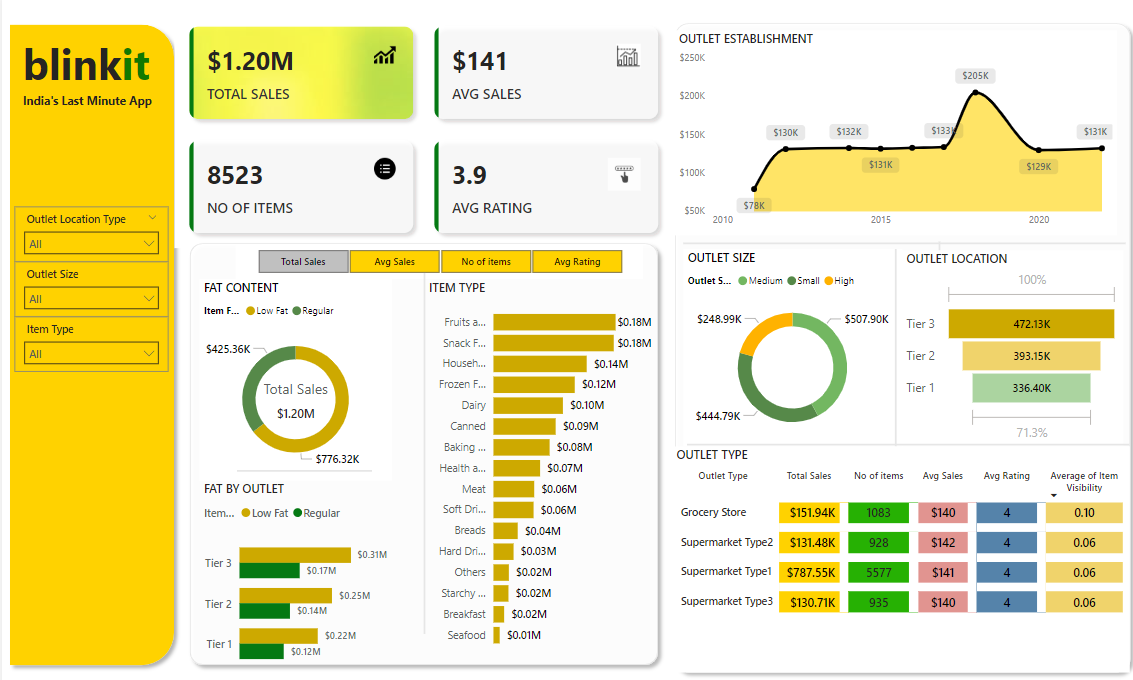

This screenshot's page, from the dashboard's own definition file:
{"tool":"powerbi","page":{"name":"Page 1","canvas":[1400,800],"ordinal":0},"visuals":[{"type":"shape","box":[0,25.5,205.6,750.4],"z":0},{"type":"textbox","box":[18,42,175.6,82.5],"z":1000},{"type":"textbox","box":[18,106.6,175.6,33],"z":2000},{"type":"cardVisual","fields":{"Data":["BlinkIT-Grocery-Data.Total Sales","BlinkIT-Grocery-Data.Avg Sales","BlinkIT-Grocery-Data.No of items","BlinkIT-Grocery-Data.Avg Rating"]},"box":[197.1,20,571.4,270],"z":3000},{"type":"shape","box":[205.7,275.7,552.9,500],"z":4000},{"type":"donutChart","title":"FAT CONTENT","fields":{"Y":["BlinkIT-Grocery-Data.Total Sales"],"Category":["BlinkIT-Grocery-Data.Item Fat Content"]},"box":[225.7,325.7,220,230],"z":5000},{"type":"slicer","fields":{"Values":["Metrics.Metrics"]},"box":[267.1,285.7,465.7,40],"z":6000},{"type":"cardVisual","fields":{"Data":["BlinkIT-Grocery-Data.Total Sales"]},"box":[277.1,412.9,117.1,102.9],"z":7000},{"type":"clusteredBarChart","title":"FAT BY OUTLET","fields":{"Y":["BlinkIT-Grocery-Data.Total Sales"],"Category":["BlinkIT-Grocery-Data.Outlet Location Type"],"Series":["BlinkIT-Grocery-Data.Item Fat Content"]},"box":[225.7,555.7,220,230],"z":8000},{"type":"shape","box":[268.6,515.7,154.3,58.6],"z":9000},{"type":"shape","box":[405.7,318.6,154.3,412.9],"z":10000},{"type":"barChart","title":"ITEM TYPE","fields":{"Y":["BlinkIT-Grocery-Data.Total Sales"],"Category":["BlinkIT-Grocery-Data.Item Type"]},"box":[482.9,325.7,264.3,431.4],"z":11000},{"type":"shape","box":[760,24.3,538.6,760],"z":12000},{"type":"lineChart","title":"OUTLET ESTABLISHMENT","fields":{"Y":["BlinkIT-Grocery-Data.Total Sales"],"Category":["BlinkIT-Grocery-Data.Outlet Establishment Year"]},"box":[768.6,41.4,505.7,234.3],"z":12001},{"type":"shape","box":[778.6,255.7,505.7,58.6],"z":12002},{"type":"donutChart","title":"OUTLET SIZE","fields":{"Y":["BlinkIT-Grocery-Data.Total Sales"],"Category":["BlinkIT-Grocery-Data.Outlet Size"]},"box":[778.6,291.4,250,225.7],"z":12003},{"type":"shape","box":[994.3,282.9,154.3,225.7],"z":12004},{"type":"funnel","title":"OUTLET LOCATION","fields":{"Y":["Sum(BlinkIT-Grocery-Data.Sales)"],"Category":["BlinkIT-Grocery-Data.Outlet Location Type"]},"box":[1028.6,292.9,252.9,224.3],"z":12005},{"type":"shape","box":[944.3,291.4,154.3,225.7],"z":12006},{"type":"shape","box":[782.9,485.7,505.7,58.6],"z":12007},{"type":"pivotTable","title":"OUTLET TYPE","fields":{"Rows":["BlinkIT-Grocery-Data.Outlet Type"],"Values":["BlinkIT-Grocery-Data.Total Sales","BlinkIT-Grocery-Data.No of items","BlinkIT-Grocery-Data.Avg Sales","BlinkIT-Grocery-Data.Avg Rating","Avg(BlinkIT-Grocery-Data.Item Visibility)"]},"box":[765.7,517.1,522.9,258.6],"z":12008},{"type":"slicer","fields":{"Values":["BlinkIT-Grocery-Data.Outlet Location Type"]},"box":[14.3,242.9,175.7,62.9],"z":12009},{"type":"slicer","fields":{"Values":["BlinkIT-Grocery-Data.Outlet Size"]},"box":[14.3,305.7,175.7,62.9],"z":12010},{"type":"slicer","fields":{"Values":["BlinkIT-Grocery-Data.Item Type"]},"box":[14.3,368.6,175.7,62.9],"z":12011}]}

Visuals, with their boxes on the page's 1400x800 design canvas (x1, y1, x2, y2). These are canvas units, not pixel positions in the 1133x680 screenshot, which may show the page scaled, cropped or inside an application window:
shape: (left=0, top=26, right=206, bottom=776)
textbox: (left=18, top=42, right=194, bottom=124)
textbox: (left=18, top=107, right=194, bottom=140)
cardVisual - BlinkIT-Grocery-Data.Total Sales x BlinkIT-Grocery-Data.Avg Sales: (left=197, top=20, right=768, bottom=290)
shape: (left=206, top=276, right=759, bottom=776)
"FAT CONTENT" donutChart: (left=226, top=326, right=446, bottom=556)
slicer - Metrics.Metrics: (left=267, top=286, right=733, bottom=326)
cardVisual - BlinkIT-Grocery-Data.Total Sales: (left=277, top=413, right=394, bottom=516)
"FAT BY OUTLET" clusteredBarChart: (left=226, top=556, right=446, bottom=786)
shape: (left=269, top=516, right=423, bottom=574)
shape: (left=406, top=319, right=560, bottom=732)
"ITEM TYPE" barChart: (left=483, top=326, right=747, bottom=757)
shape: (left=760, top=24, right=1299, bottom=784)
"OUTLET ESTABLISHMENT" lineChart: (left=769, top=41, right=1274, bottom=276)
shape: (left=779, top=256, right=1284, bottom=314)
"OUTLET SIZE" donutChart: (left=779, top=291, right=1029, bottom=517)
shape: (left=994, top=283, right=1149, bottom=509)
"OUTLET LOCATION" funnel: (left=1029, top=293, right=1282, bottom=517)
shape: (left=944, top=291, right=1099, bottom=517)
shape: (left=783, top=486, right=1289, bottom=544)
"OUTLET TYPE" pivotTable: (left=766, top=517, right=1289, bottom=776)
slicer - BlinkIT-Grocery-Data.Outlet Location Type: (left=14, top=243, right=190, bottom=306)
slicer - BlinkIT-Grocery-Data.Outlet Size: (left=14, top=306, right=190, bottom=369)
slicer - BlinkIT-Grocery-Data.Item Type: (left=14, top=369, right=190, bottom=432)
